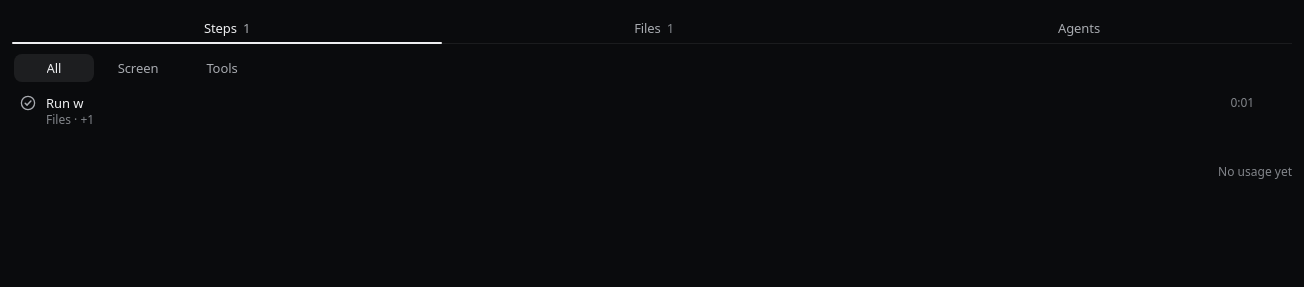
Test: ActivityRail › lists the files dot changed after the steps, each unfolding its diff
The width and height of the screenshot is (1304, 287).
What coordinates should you click on to do the following:
click the tab "Files 1"
I would click on:
 (654, 28)
Its box is x1=442 y1=12 x2=866 y2=44.
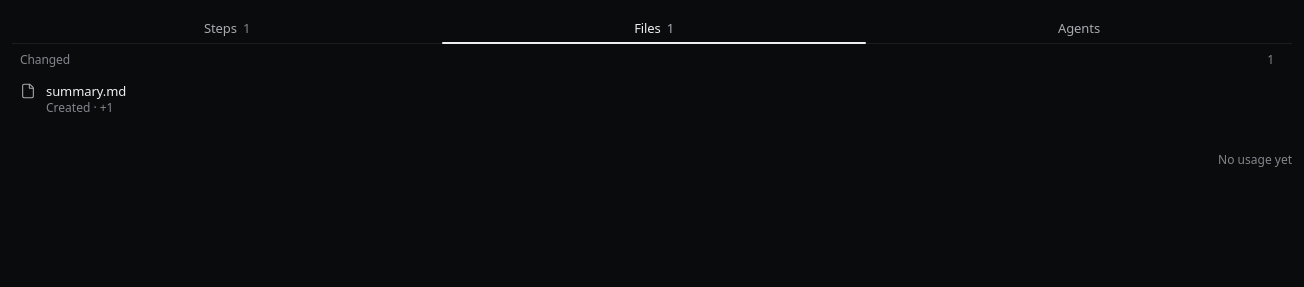
Check: the element showing "summary.md Created · +1" is shown, box x1=46 y1=82 x2=126 y2=116
What coordinates should you click on to do the following:
click the button "summary.md Created · +1"
I would click on:
 (86, 91)
Its box is x1=12 y1=76 x2=1282 y2=122.
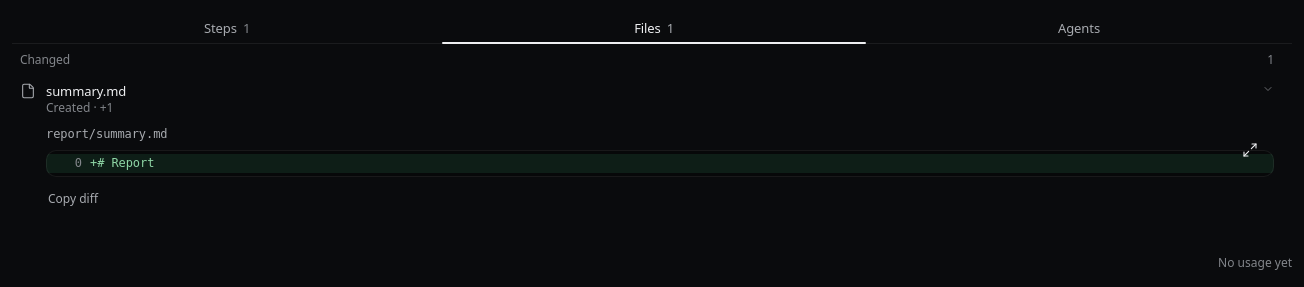
Check: the element named "Unified text diff" reads "+# Report", box x1=90 y1=156 x2=154 y2=170
